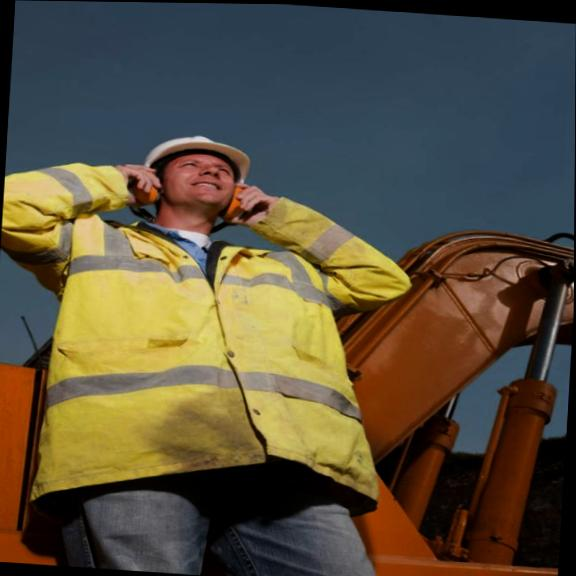safety_vest: (4, 198, 373, 487)
